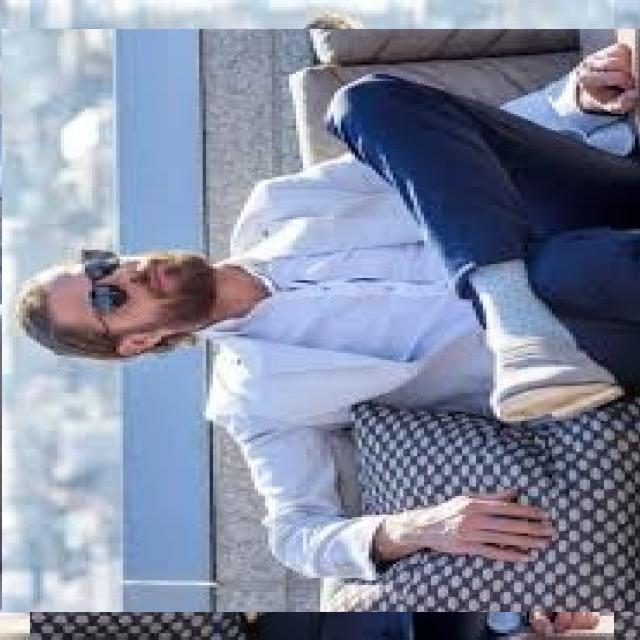NotFall: (105, 102, 640, 520)
